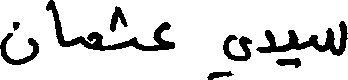ا: (48, 0, 63, 48)
ث: (108, 3, 138, 50)
د: (257, 28, 274, 64)
س: (310, 19, 347, 57)
ع: (152, 20, 175, 52)
م: (82, 29, 103, 51)
ن: (0, 20, 37, 66)
ي: (208, 33, 252, 79), (274, 28, 300, 69)
